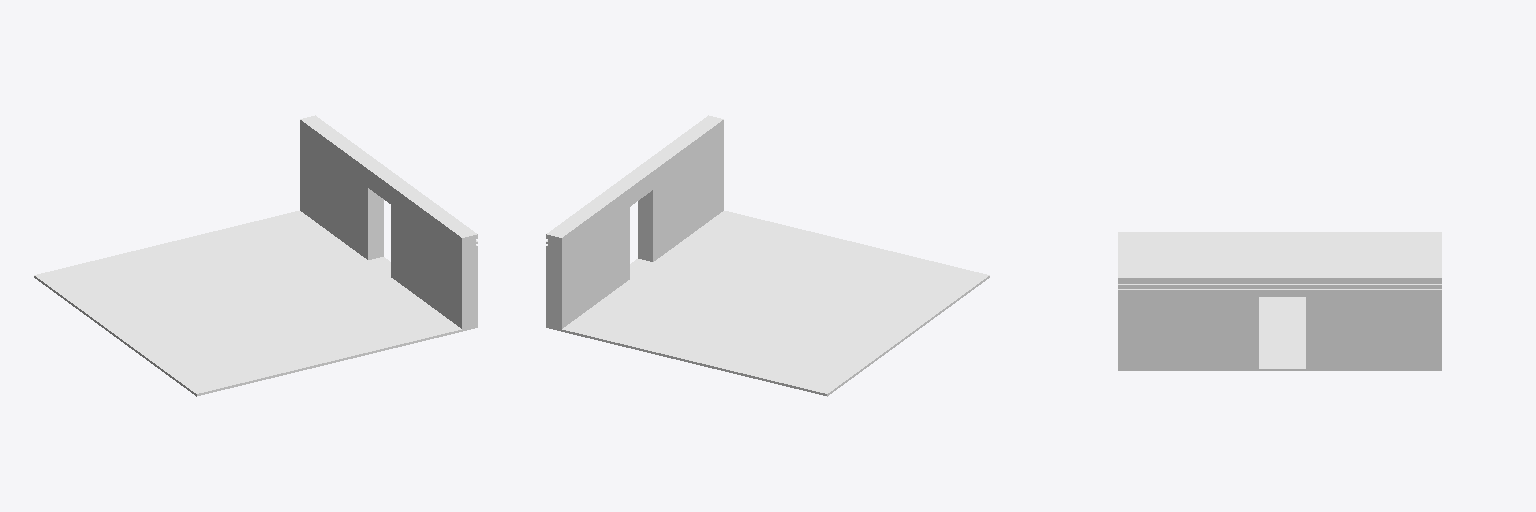
Rendered from building-a-door.obj.
3 views of the same model, side by side, from view 1: azimuth 30°, elevation 25°; view 2: azimuth 150°, elevation 25°; view 3: azimuth 270°, elevation 25° (orthographic).
Visible parts, largest first — view 1: building-a:door; view 2: building-a:door; view 3: building-a:door.
Boxes of the visible parts, box(x1,y1,x2,y2) form: building-a:door: box(34, 115, 477, 396); building-a:door: box(546, 115, 989, 396); building-a:door: box(1118, 232, 1441, 370).
Bounding box in the file's own units: 126 × 40 × 126.